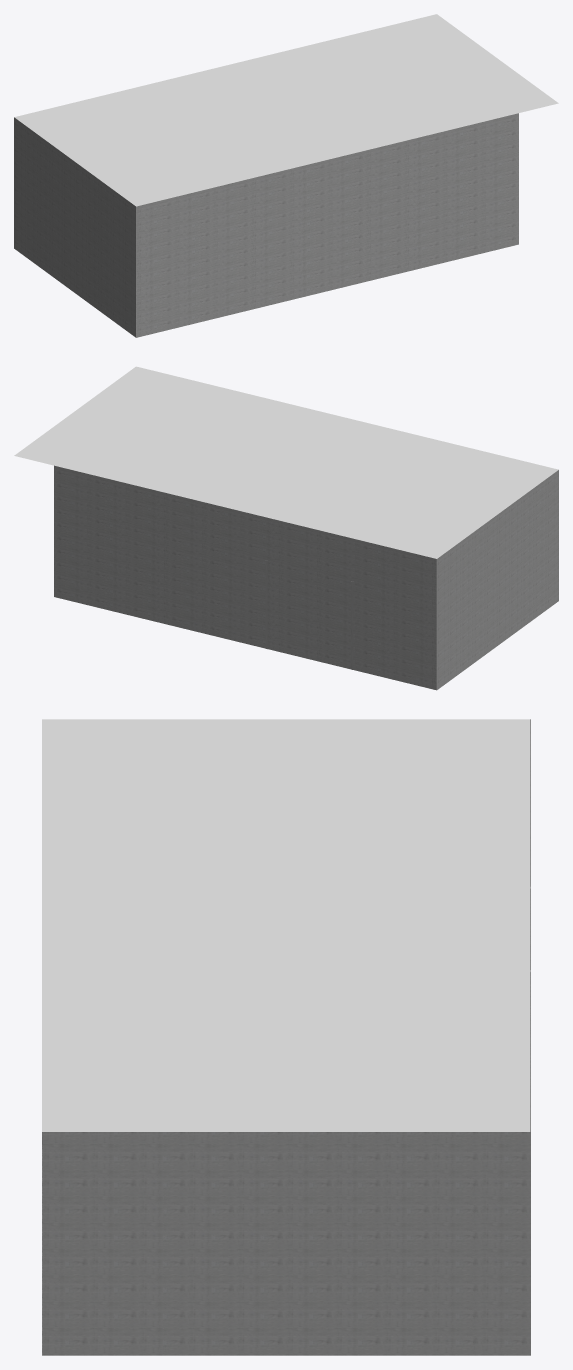
The model's file is main_room.gltf.
3 renders of one model, top to bottom at view 1: azimuth 30°, elevation 25°; view 2: azimuth 150°, elevation 25°; view 3: azimuth 270°, elevation 25°, orthographic. The views are drawn at different scales.
Parts seen in each view (by area): view 1: Plane.MainRoof.001, Plane.Wall.001, Plane.Wall.004; view 2: Plane.MainRoof.001, Plane.Wall.003, Plane.Wall.004; view 3: Plane.MainRoof.001, Plane.Wall.002.
Part boxes in pixels (box(x1,y1,x2,y2)): Plane.MainRoof.001: box(14, 14, 558, 206); Plane.Wall.001: box(136, 113, 518, 337); Plane.Wall.004: box(14, 117, 135, 337); Plane.MainRoof.001: box(14, 366, 558, 558); Plane.Wall.003: box(54, 465, 436, 690); Plane.Wall.004: box(436, 470, 558, 689); Plane.MainRoof.001: box(42, 719, 530, 1131); Plane.Wall.002: box(42, 1093, 530, 1355).
Size of the model in its own units: 400 by 119 by 200.
Materials: 2 (2 with a texture image).
